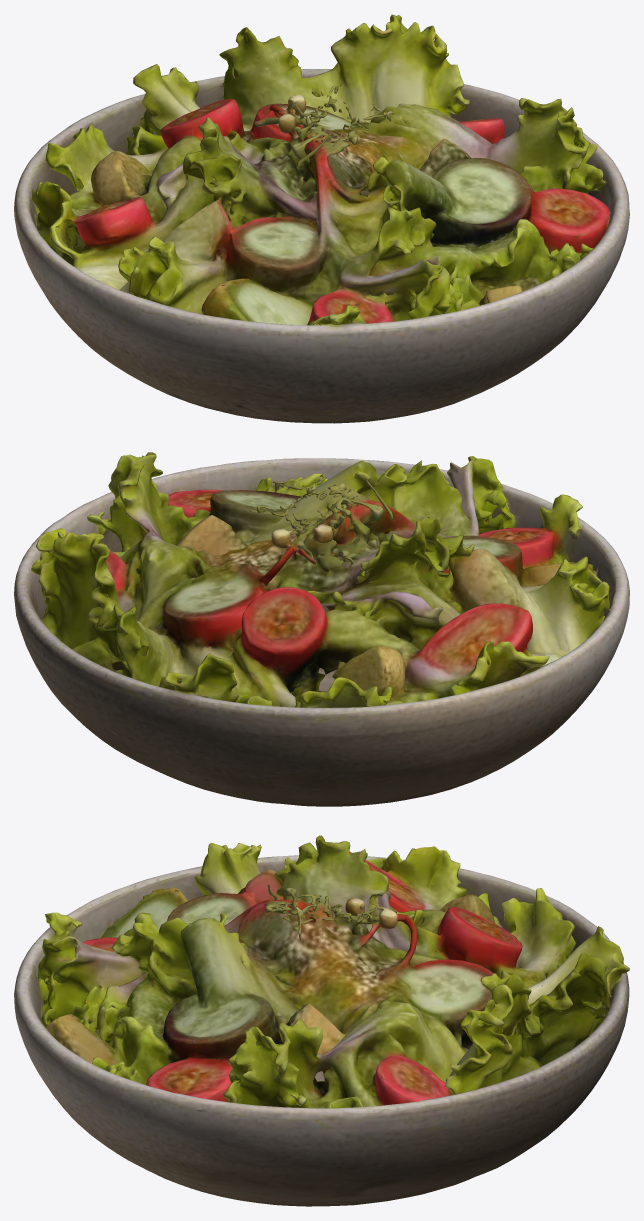
Rendered from sample_2026-11-06T171912.208.glb.
3 renders of one model, top to bottom at view 1: azimuth 30°, elevation 25°; view 2: azimuth 150°, elevation 25°; view 3: azimuth 270°, elevation 25°, orthographic.
Parts seen in each view (by area): view 1: world; view 2: world; view 3: world.
Boxes of the visible parts, bbox=[...] form: world: bbox=[14, 14, 629, 423]; world: bbox=[14, 452, 629, 806]; world: bbox=[14, 835, 629, 1206].
Bounding box in the file's own units: 1 × 0.4154 × 0.9991.
1 material, 1 textured.
